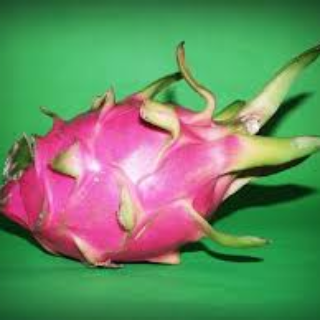thanh_long: (1, 94, 251, 269)
